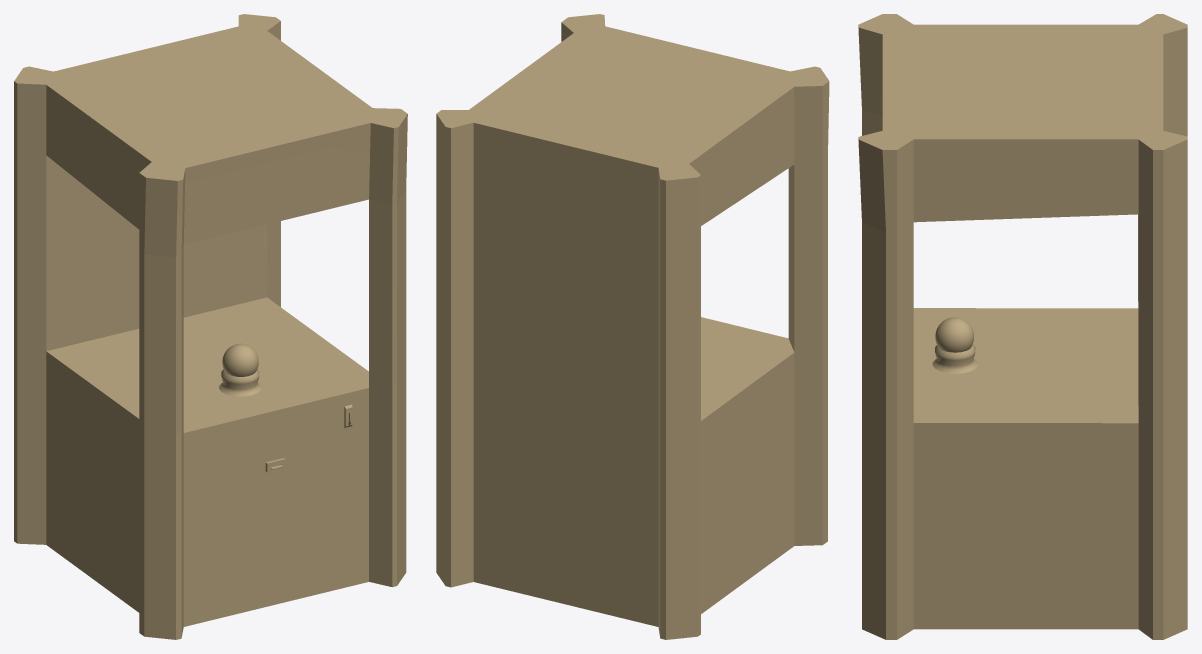
Rendered from SM_FortuneBooth.fbx.
3 views of the same model, side by side, from view 1: azimuth 30°, elevation 25°; view 2: azimuth 150°, elevation 25°; view 3: azimuth 270°, elevation 25° (orthographic). The views are drawn at different scales.
Parts seen in each view (by area): view 1: Booth_low; view 2: Booth_low; view 3: Booth_low.
Part boxes in pixels (x1,y1,x2,y2): Booth_low: (14, 14, 407, 639); Booth_low: (436, 14, 829, 639); Booth_low: (858, 14, 1187, 639).
Bounding box in the file's own units: 65.89 × 111 × 67.36.
